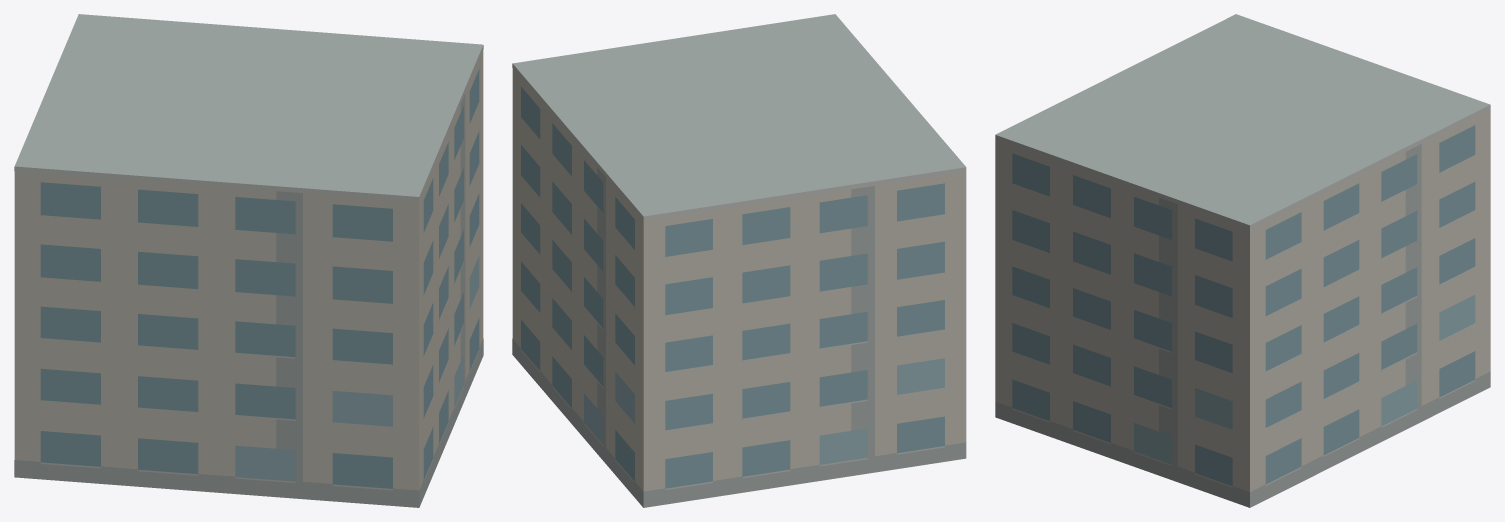
The model's file is residential-d75b509e-cf5d-42a6-b3c9-afeeb592e670.glb.
The picture shows the model from 3 angles, left to right: view 1: azimuth 30°, elevation 25°; view 2: azimuth 150°, elevation 25°; view 3: azimuth 270°, elevation 25°; orthographic projection. The views are drawn at different scales.
Visible parts, largest first — view 1: residential-d75b509e-cf5d-42a6-b3c9-afeeb592e670.tmp; view 2: residential-d75b509e-cf5d-42a6-b3c9-afeeb592e670.tmp; view 3: residential-d75b509e-cf5d-42a6-b3c9-afeeb592e670.tmp.
Boxes of the visible parts, x1=… form: residential-d75b509e-cf5d-42a6-b3c9-afeeb592e670.tmp: x1=14, y1=14, x2=483, y2=507; residential-d75b509e-cf5d-42a6-b3c9-afeeb592e670.tmp: x1=512, y1=14, x2=966, y2=507; residential-d75b509e-cf5d-42a6-b3c9-afeeb592e670.tmp: x1=995, y1=14, x2=1490, y2=507.
Bounding box in the file's own units: 24.47 × 15.25 × 24.24.
